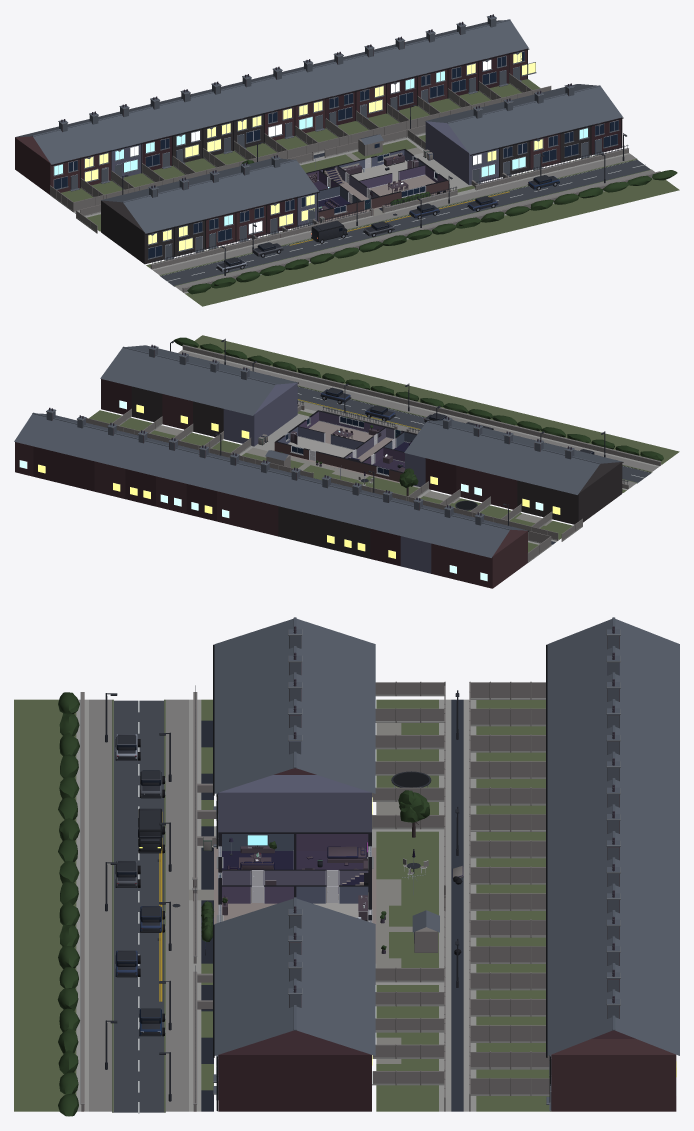
File: level.glb
3 renders of one model, top to bottom at view 1: azimuth 30°, elevation 25°; view 2: azimuth 150°, elevation 25°; view 3: azimuth 270°, elevation 25°, orthographic. The views are drawn at different scales.
Visible parts, largest first — view 1: static, lit_windows, caps; view 2: static, lit_windows, caps; view 3: static, caps.
Part boxes in pixels (bbox=[...]): static: bbox=[15, 14, 679, 306]; lit_windows: bbox=[54, 52, 587, 250]; caps: bbox=[306, 149, 447, 212]; static: bbox=[14, 335, 679, 588]; lit_windows: bbox=[19, 400, 560, 581]; caps: bbox=[275, 410, 416, 473]; static: bbox=[14, 617, 679, 1116]; caps: bbox=[218, 832, 371, 920].
Size of the model in its own units: 80.76 by 8.82 by 53.3.
